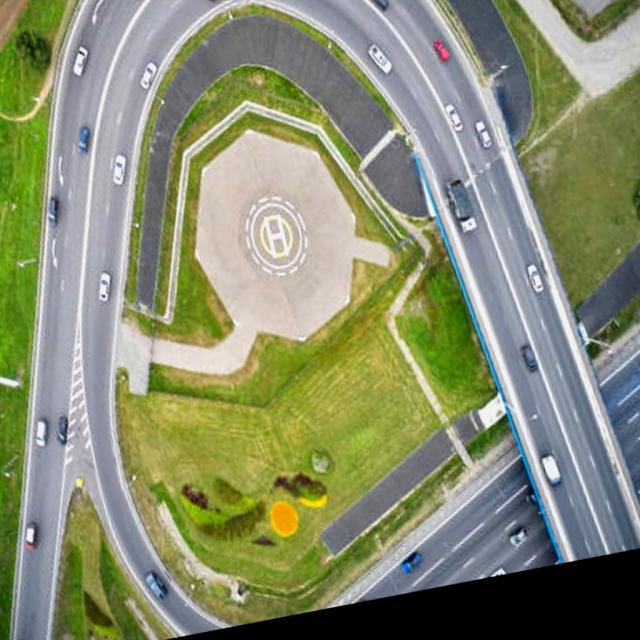helipad: (256, 213, 294, 258)
